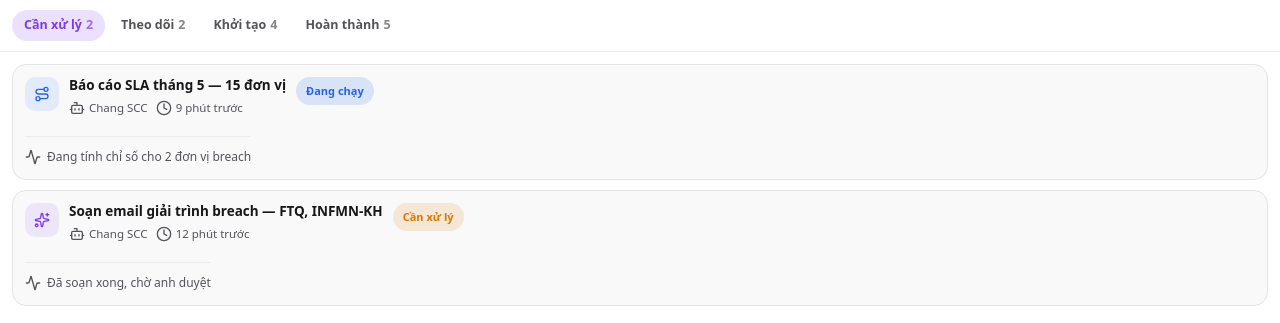
it: switching the sub-tab filter changes the visible tasks
Click the button "Theo dõi2": point(153, 25) [109,10,198,41]
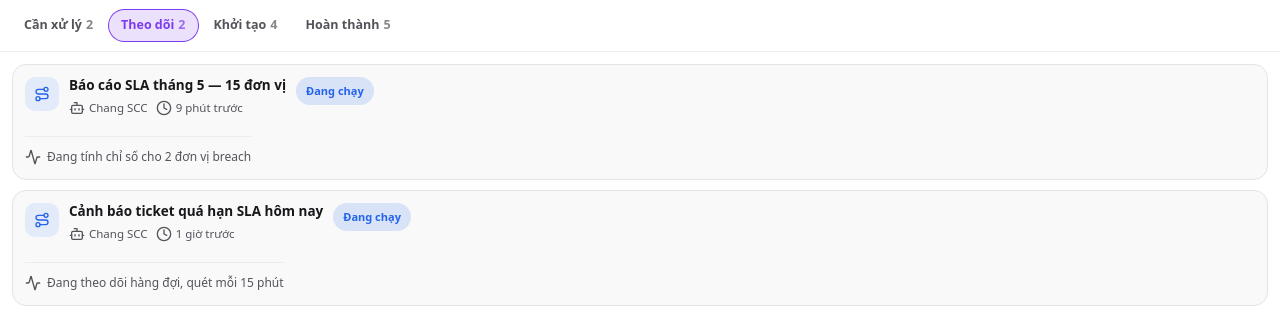
Expected: the text "Cảnh báo ticket quá hạn SLA hôm nay" is shown, [69,203,323,220]
